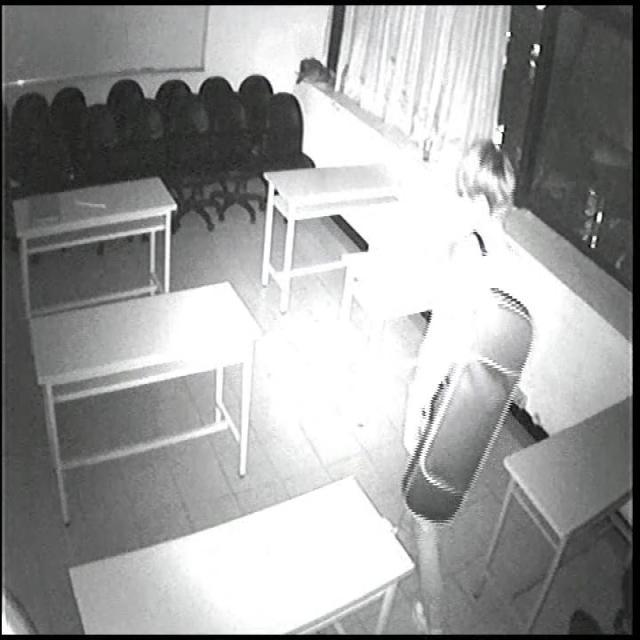abandoned-object: (401, 273, 538, 531), (295, 53, 344, 95)
